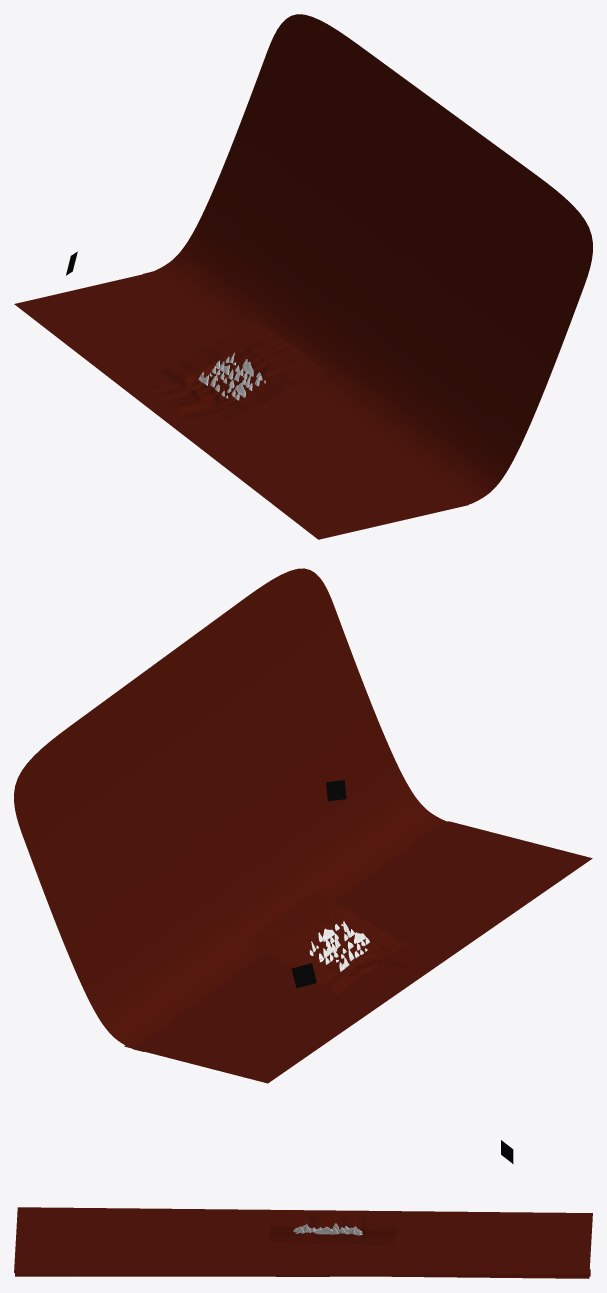
The model's file is snow.obj.
The picture shows the model from 3 angles, top to bottom: view 1: azimuth 30°, elevation 25°; view 2: azimuth 150°, elevation 25°; view 3: azimuth 270°, elevation 25°; orthographic projection. The views are drawn at different scales.
Visible parts, largest first — view 1: stilllife, stilllife.013, Plane; view 2: stilllife, stilllife.013, Plane; view 3: stilllife.013, Plane, stilllife.
Boxes of the visible parts, bbox=[...] form: stilllife: bbox=[143, 14, 592, 504]; stilllife.013: bbox=[14, 272, 468, 539]; Plane: bbox=[134, 321, 325, 428]; stilllife: bbox=[14, 568, 447, 1051]; stilllife.013: bbox=[124, 821, 592, 1083]; Plane: bbox=[245, 892, 433, 1000]; stilllife.013: bbox=[14, 1207, 592, 1278]; Plane: bbox=[268, 1214, 397, 1244]; stilllife: bbox=[15, 1269, 590, 1276].
Size of the model in its own units: 313 by 256 by 606.
